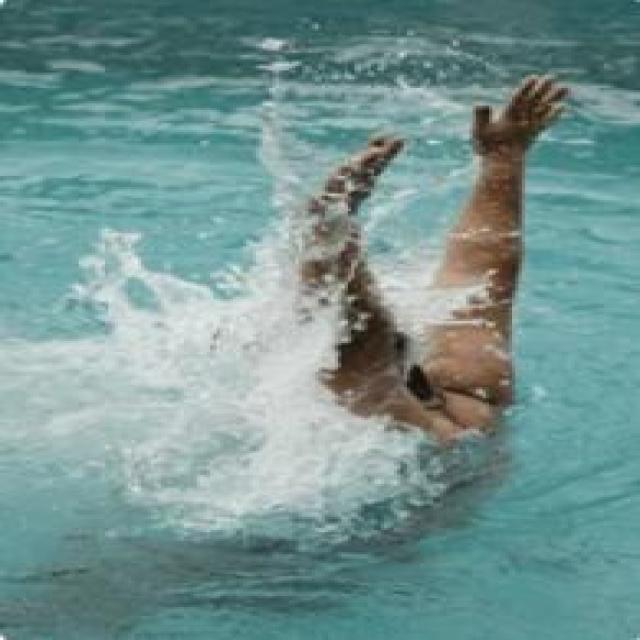Out of Water: (284, 70, 579, 451)
